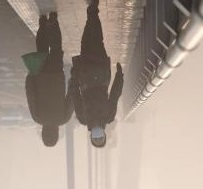person: (74, 1, 125, 148), (21, 13, 76, 147)
